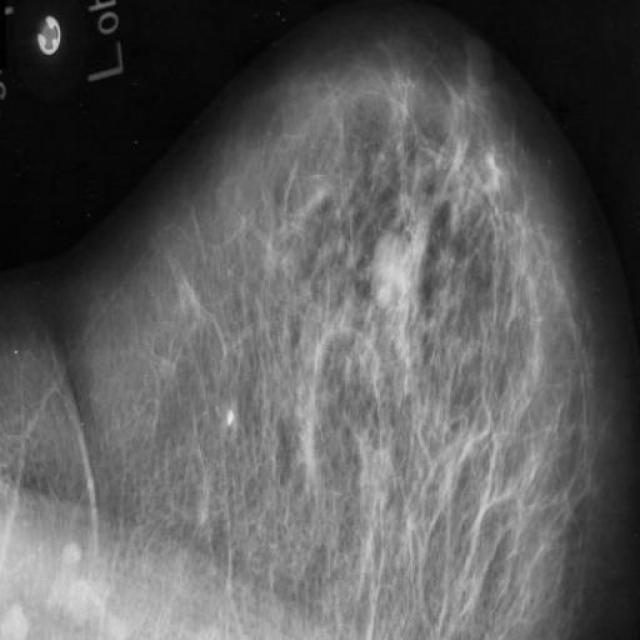cancer: (360, 318, 424, 407)
